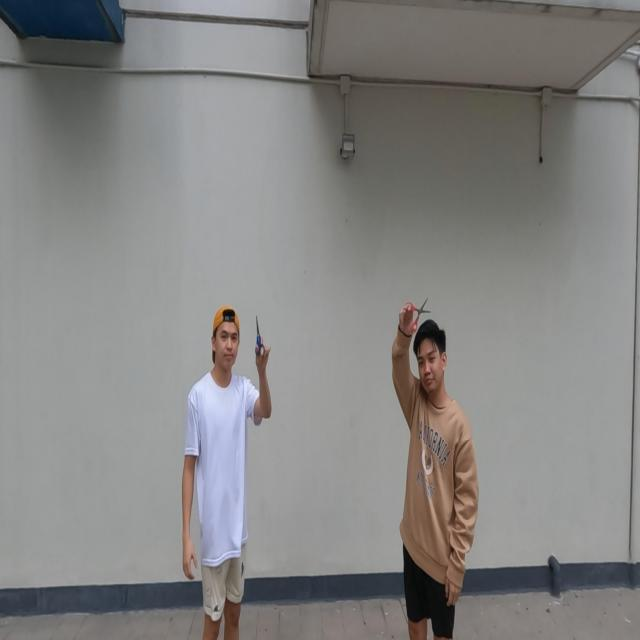scissor: (403, 295, 431, 336), (255, 314, 265, 360)
